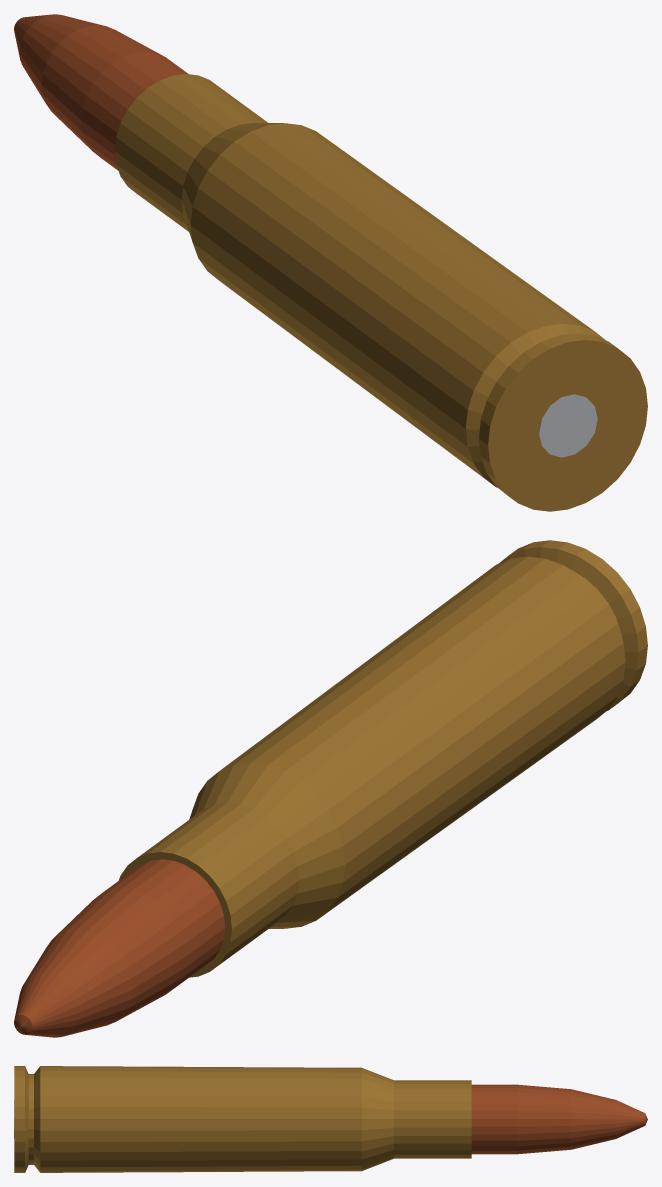
Rendered from municao_308.glb.
The picture shows the model from 3 angles, top to bottom: view 1: azimuth 30°, elevation 25°; view 2: azimuth 150°, elevation 25°; view 3: azimuth 270°, elevation 25°; orthographic projection. The views are drawn at different scales.
Parts seen in each view (by area): view 1: municao_308_latao, municao_308_cobre_bala, municao_308_aco_inox; view 2: municao_308_latao, municao_308_cobre_bala; view 3: municao_308_latao, municao_308_cobre_bala.
Boxes of the visible parts, left/top/right/bottom form: municao_308_latao: left=114, top=74, right=647, bottom=511; municao_308_cobre_bala: left=14, top=14, right=188, bottom=170; municao_308_aco_inox: left=539, top=394, right=597, bottom=457; municao_308_latao: left=119, top=540, right=647, bottom=977; municao_308_cobre_bala: left=14, top=859, right=225, bottom=1037; municao_308_latao: left=14, top=1066, right=471, bottom=1172; municao_308_cobre_bala: left=471, top=1084, right=647, bottom=1154.
Bounding box in the file's own units: 0.012 × 0.012 × 0.0711.
